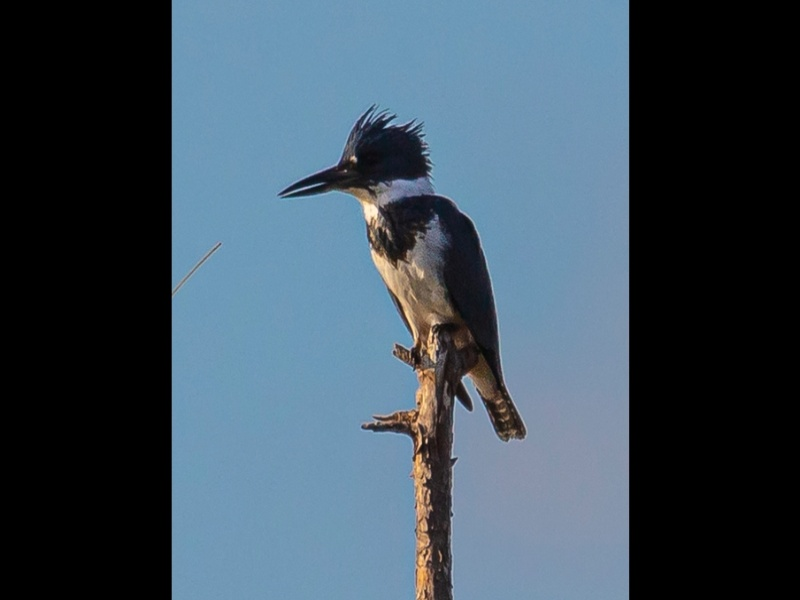kingfisher: (276, 104, 528, 446)
